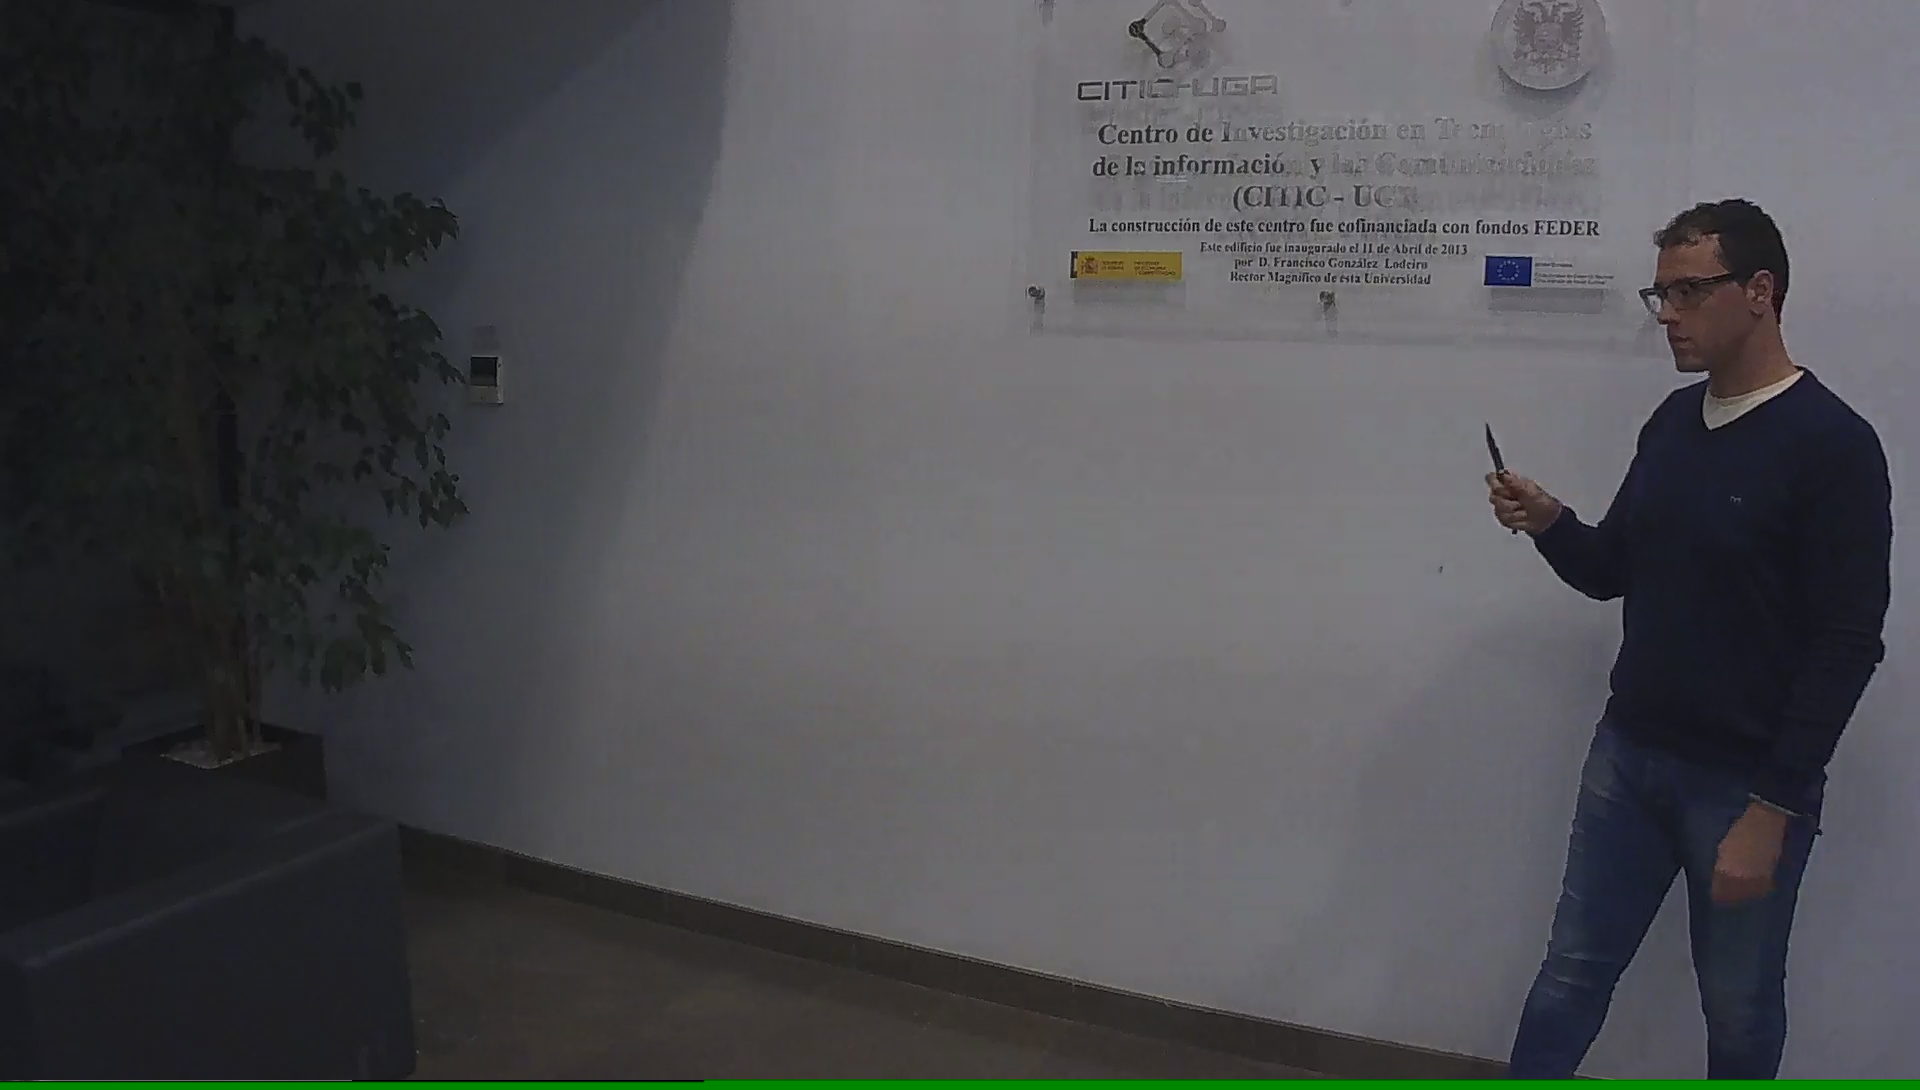knife: (1476, 414, 1526, 539)
